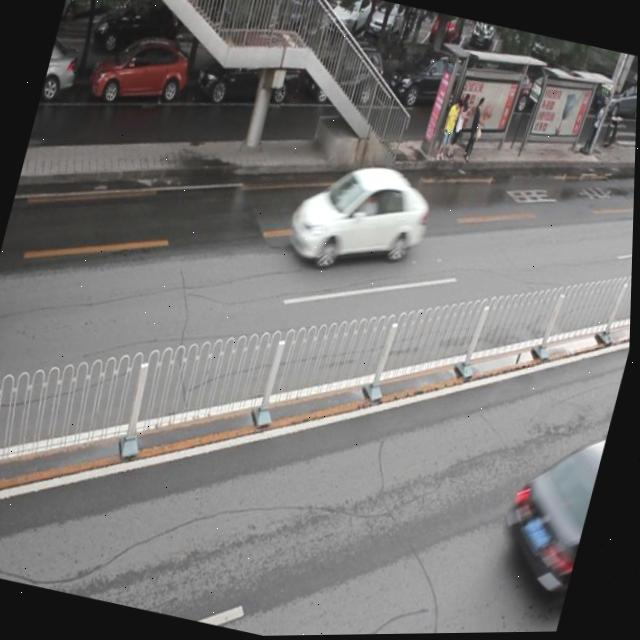car: (492, 416, 611, 608), (283, 150, 438, 283), (193, 20, 309, 115), (86, 29, 197, 121), (383, 40, 477, 121), (301, 34, 392, 117), (39, 37, 85, 109)
